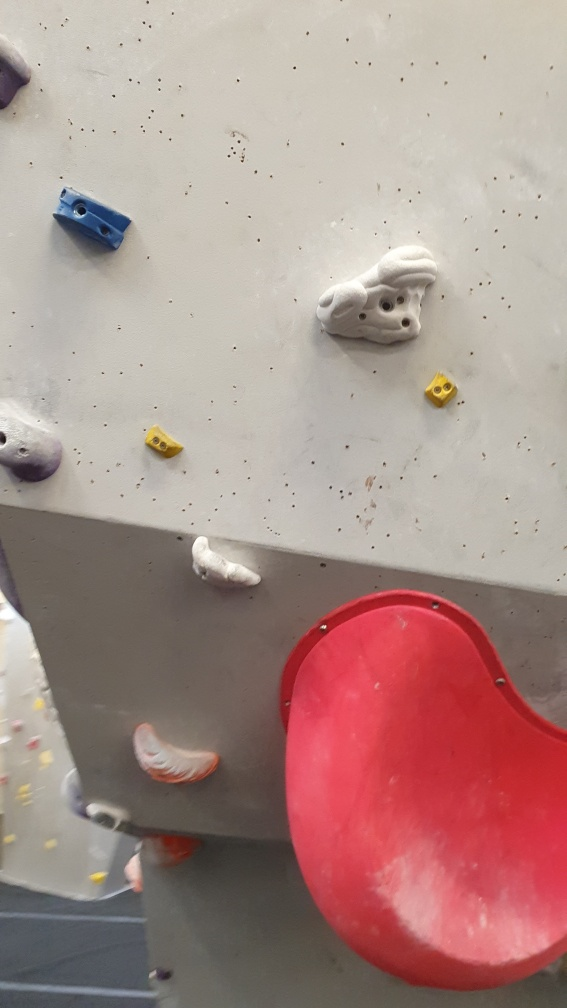Crimp: (142, 416, 187, 460)
Jug: (313, 240, 440, 352), (126, 716, 228, 792), (185, 530, 263, 597)
Pinch: (50, 180, 138, 253), (421, 370, 466, 410)
Sloper: (1, 405, 73, 486)
